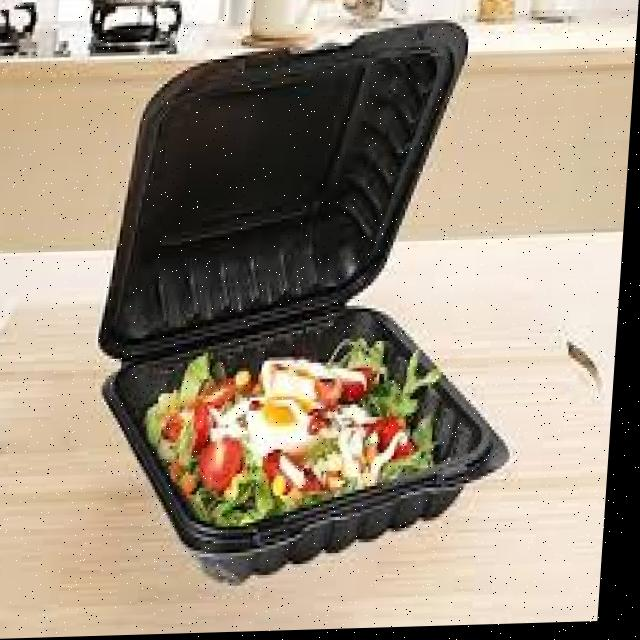disposable: (93, 296, 529, 602)
